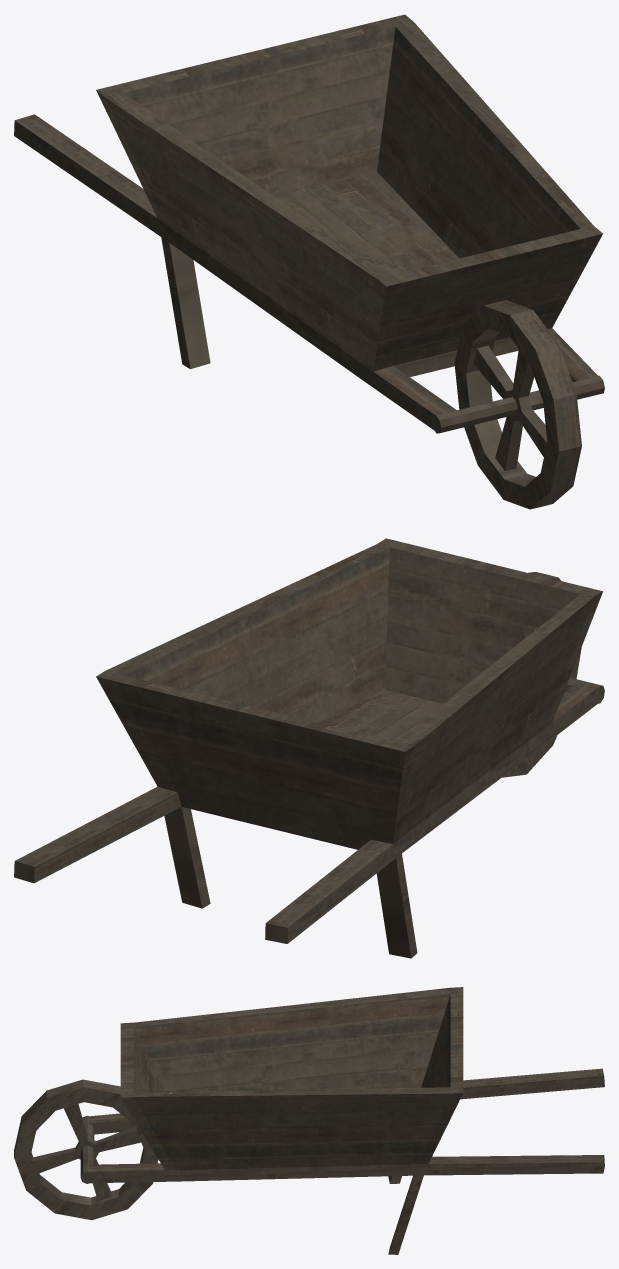
Rendered from karutis.glb.
3 renders of one model, top to bottom at view 1: azimuth 30°, elevation 25°; view 2: azimuth 150°, elevation 25°; view 3: azimuth 270°, elevation 25°, orthographic. The views are drawn at different scales.
Parts seen in each view (by area): view 1: Cube; view 2: Cube; view 3: Cube.
Part boxes in pixels (left/top/right/bottom): Cube: left=14, top=14, right=604, bottom=509; Cube: left=14, top=538, right=604, bottom=958; Cube: left=14, top=987, right=604, bottom=1254.
Bounding box in the file's own units: 1.45 × 1.13 × 3.42.
1 material, 1 textured.
